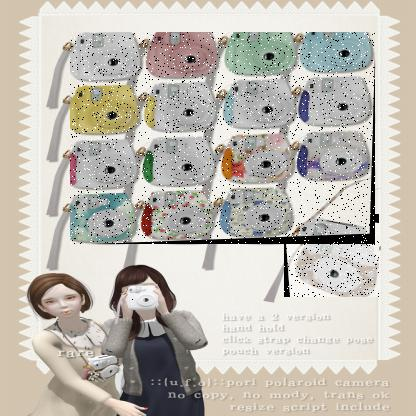Camera: (71, 33, 377, 246), (285, 215, 381, 299), (129, 285, 158, 311)
